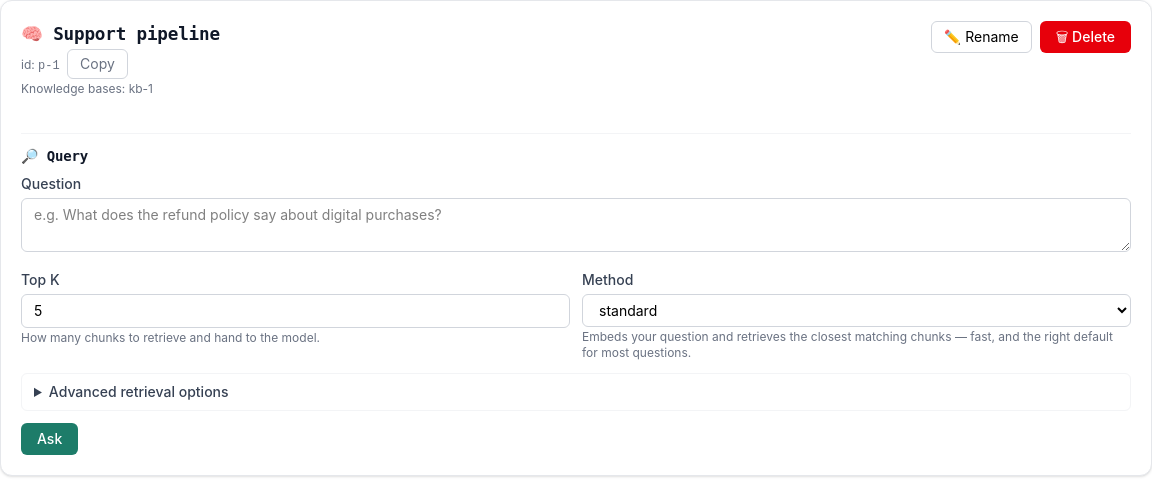
PipelineCard › cancels a rename without saving
The image size is (1152, 502).
Click the button "✏️ Rename".
click(981, 37)  # box left=931, top=21, right=1032, bottom=53
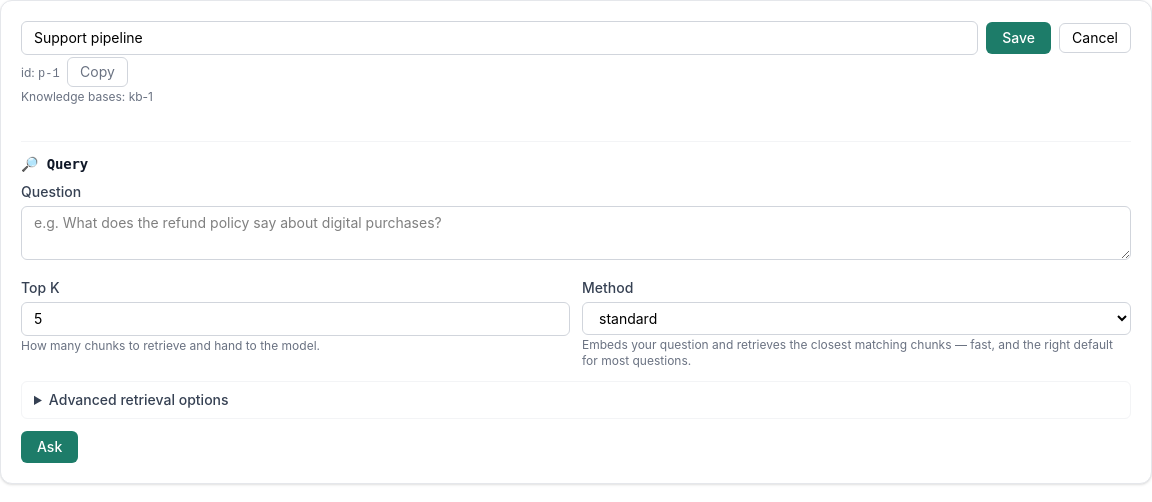
Replace the text in the field named "Pipeline name" with "Discard me" at (500, 38), box left=21, top=21, right=978, bottom=55
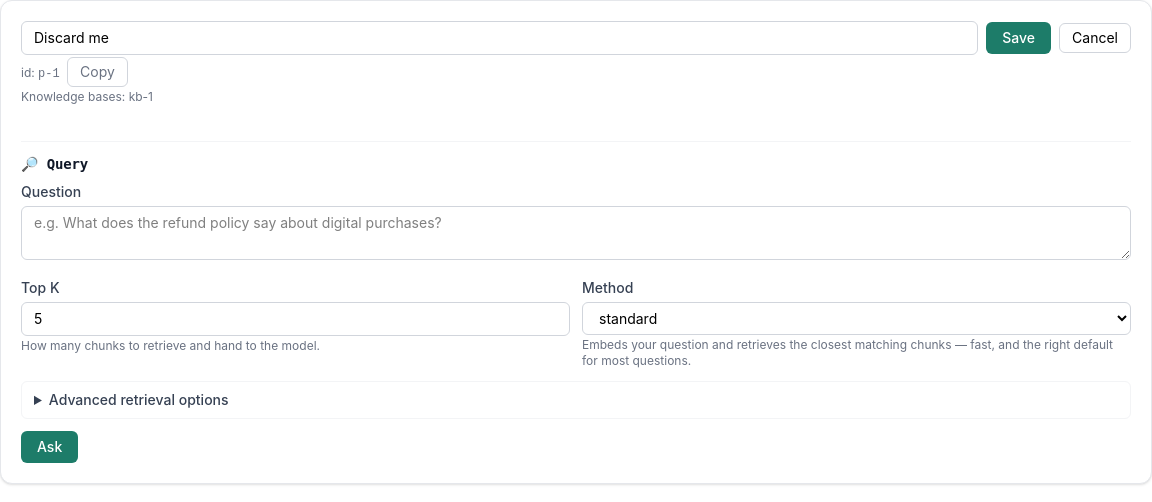
Click the button "Cancel".
click(1095, 38)  # box left=1059, top=23, right=1131, bottom=53
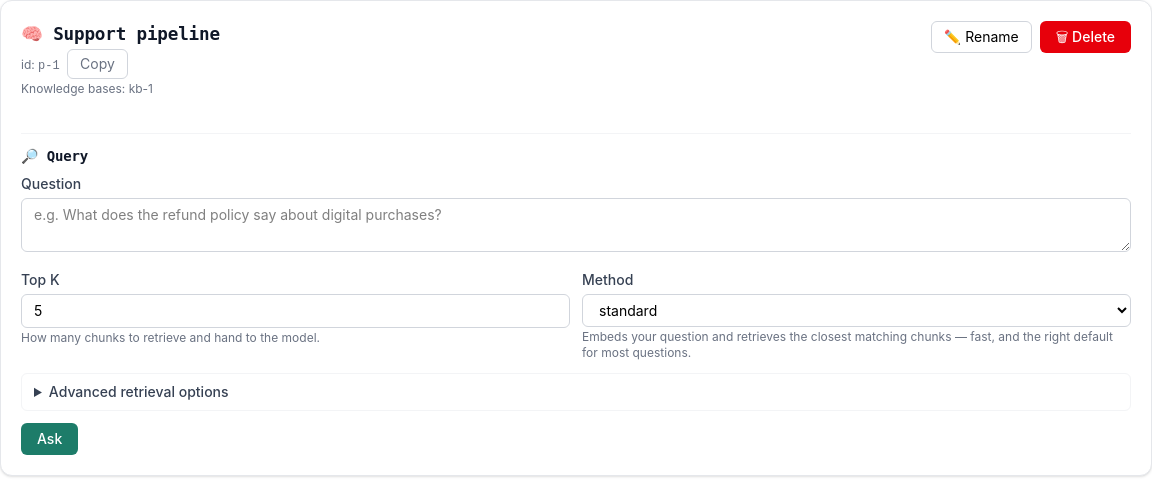
Check: the heading "🧠 Support pipeline" is shown, box left=21, top=24, right=220, bottom=44
